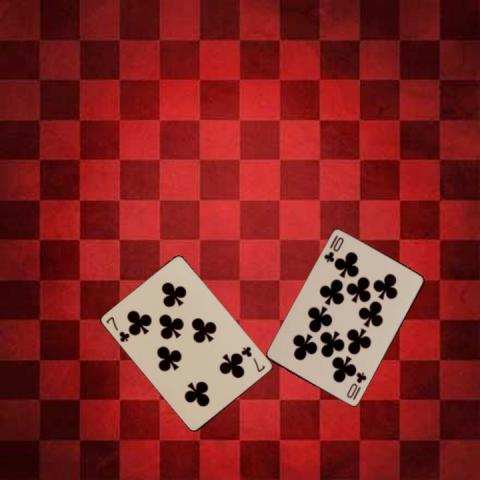10c: (343, 369, 368, 402), (321, 233, 345, 264)
7c: (103, 314, 132, 344), (239, 344, 267, 374)
